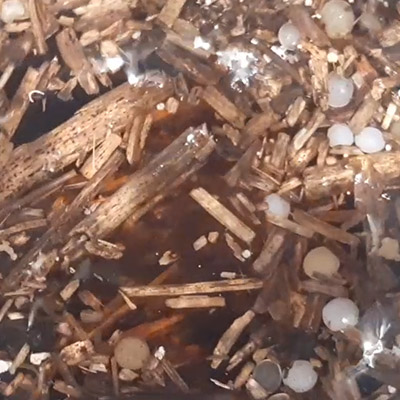nurdle: (317, 296, 366, 334), (299, 244, 343, 281), (281, 357, 321, 395), (316, 73, 356, 110), (260, 192, 299, 228), (113, 337, 154, 371), (354, 125, 386, 154), (325, 122, 357, 149)
w: (317, 67, 355, 110)
